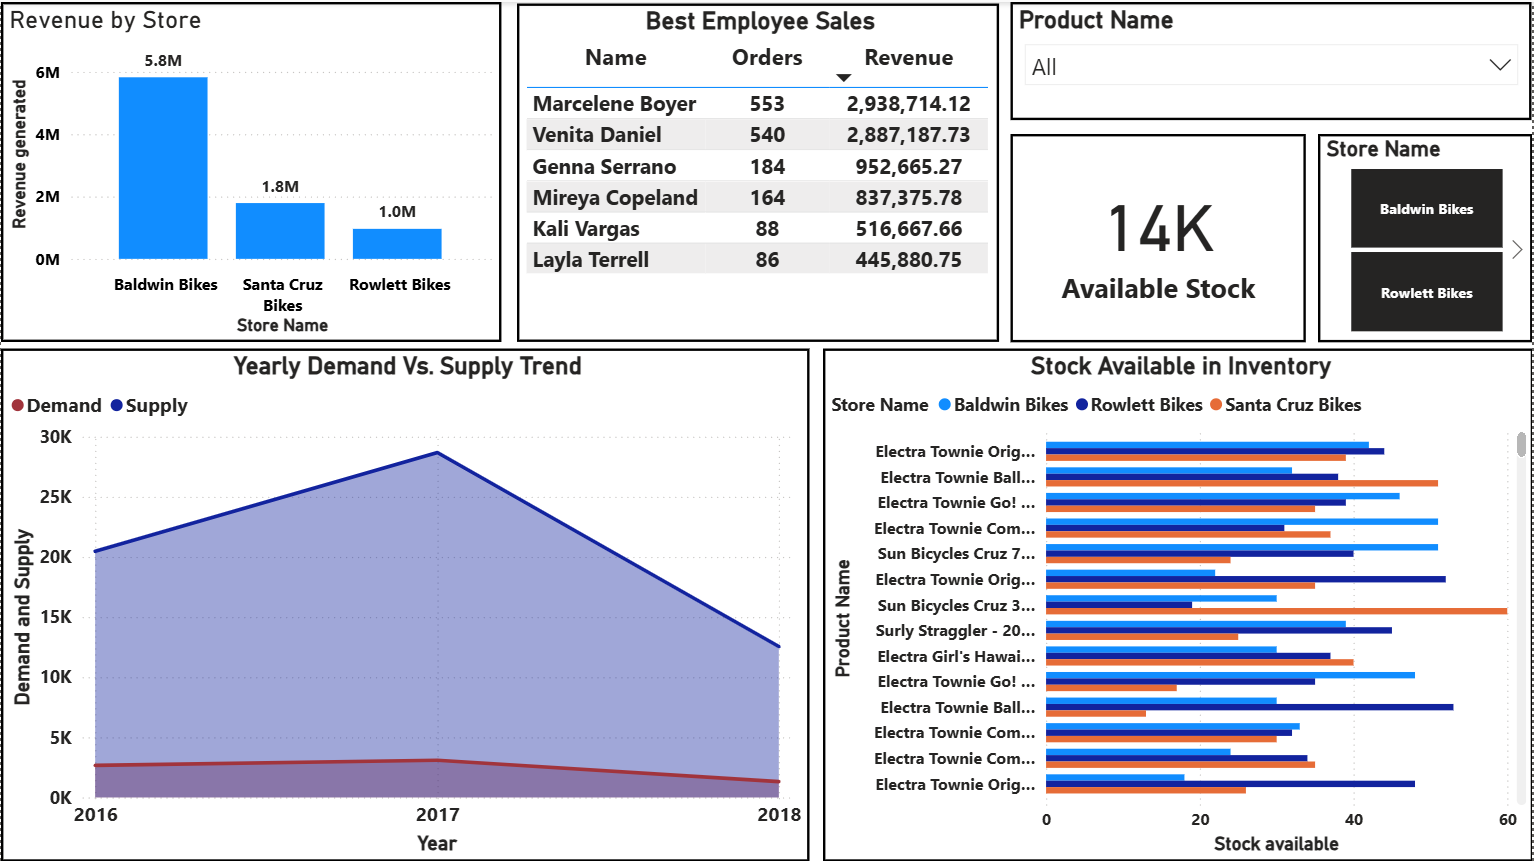

This screenshot's page, from the dashboard's own definition file:
{"tool":"powerbi","page":{"name":"Store, Staff & Inventory","canvas":[1280,720],"ordinal":2},"visuals":[{"type":"columnChart","title":"Revenue by Store","fields":{"Category":["Revenue by Store.store_name"],"Y":["Revenue by Store.Revenue_generated"]},"box":[0,0,417.9,284.2],"z":0},{"type":"tableEx","title":"Best Employee Sales","fields":{"Values":["Staff Performance.Name","Staff Performance.orders_handles","Staff Performance.Revenue_generated"]},"box":[430.4,1.4,402.9,282.6],"z":1000},{"type":"clusteredBarChart","title":"Stock Available in Inventory","fields":{"Category":["Stock per product.product_name"],"Y":["Stock per product.quantity"],"Series":["Stock per product.store_name"]},"box":[687,289.9,594.2,429],"z":2000},{"type":"card","fields":{"Values":["Stock per product.quantity"]},"box":[843.5,110.1,246.4,173.9],"z":3000},{"type":"slicer","title":"Store Name","fields":{"Values":["Stock per product.store_name"]},"box":[1100,110.1,179.7,173.9],"z":4000},{"type":"areaChart","title":"Yearly Demand Vs. Supply Trend","fields":{"Category":["Demand Vs Supply.order_date.Variation.Date Hierarchy.Year","Demand Vs Supply.order_date.Variation.Date Hierarchy.Month"],"Y":["Demand Vs Supply.Demand","Demand Vs Supply.Supply"]},"box":[0,289.9,675.4,429],"z":5000},{"type":"slicer","title":"Product Name","fields":{"Values":["Stock per product.product_name"]},"box":[843.5,0,436.2,98.6],"z":6000}]}

Visuals, with their boxes in screenshot pixels (x1, y1, x2, y2), scaled from the page's 1280x720 canvas onto the 1534x861 screenshot:
"Revenue by Store" columnChart: x1=0, y1=0, x2=501, y2=340
"Best Employee Sales" tableEx: x1=516, y1=2, x2=999, y2=340
"Stock Available in Inventory" clusteredBarChart: x1=823, y1=347, x2=1533, y2=860
card - Stock per product.quantity: x1=1011, y1=132, x2=1306, y2=340
"Store Name" slicer: x1=1318, y1=132, x2=1533, y2=340
"Yearly Demand Vs. Supply Trend" areaChart: x1=0, y1=347, x2=809, y2=860
"Product Name" slicer: x1=1011, y1=0, x2=1533, y2=118
